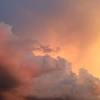sky: (1, 1, 99, 100)
